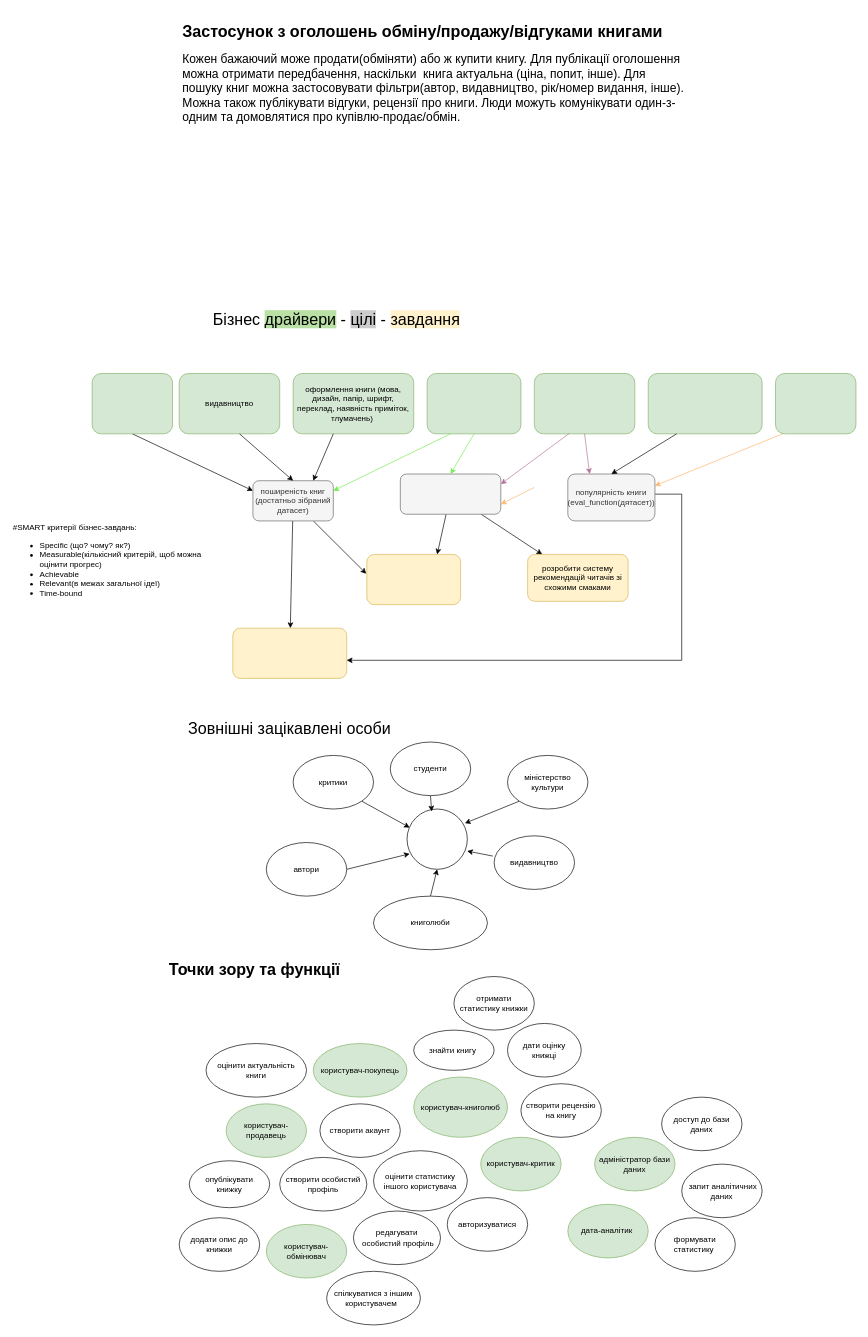
This 868x1337 diagram has some shape labels left out. Here are the shapes that lost their labels. From the top down, the centre of each, then its label:
[132,403]: тираж книги
[473,403]: культура читання
[584,403]: суб'єктивні читацькі інтереси
[705,403]: просування книги (рецензії, блоги, фільми, fan-fiction)
[815,403]: автор книги
[450,493]: читацька спільноту (розмір)
[413,579]: розробити систему комунікації читачів (зацікавлених у книжці)
[289,652]: розробити функцію оцінки популярності книги
[436,838]: Додаток з поширення книг
